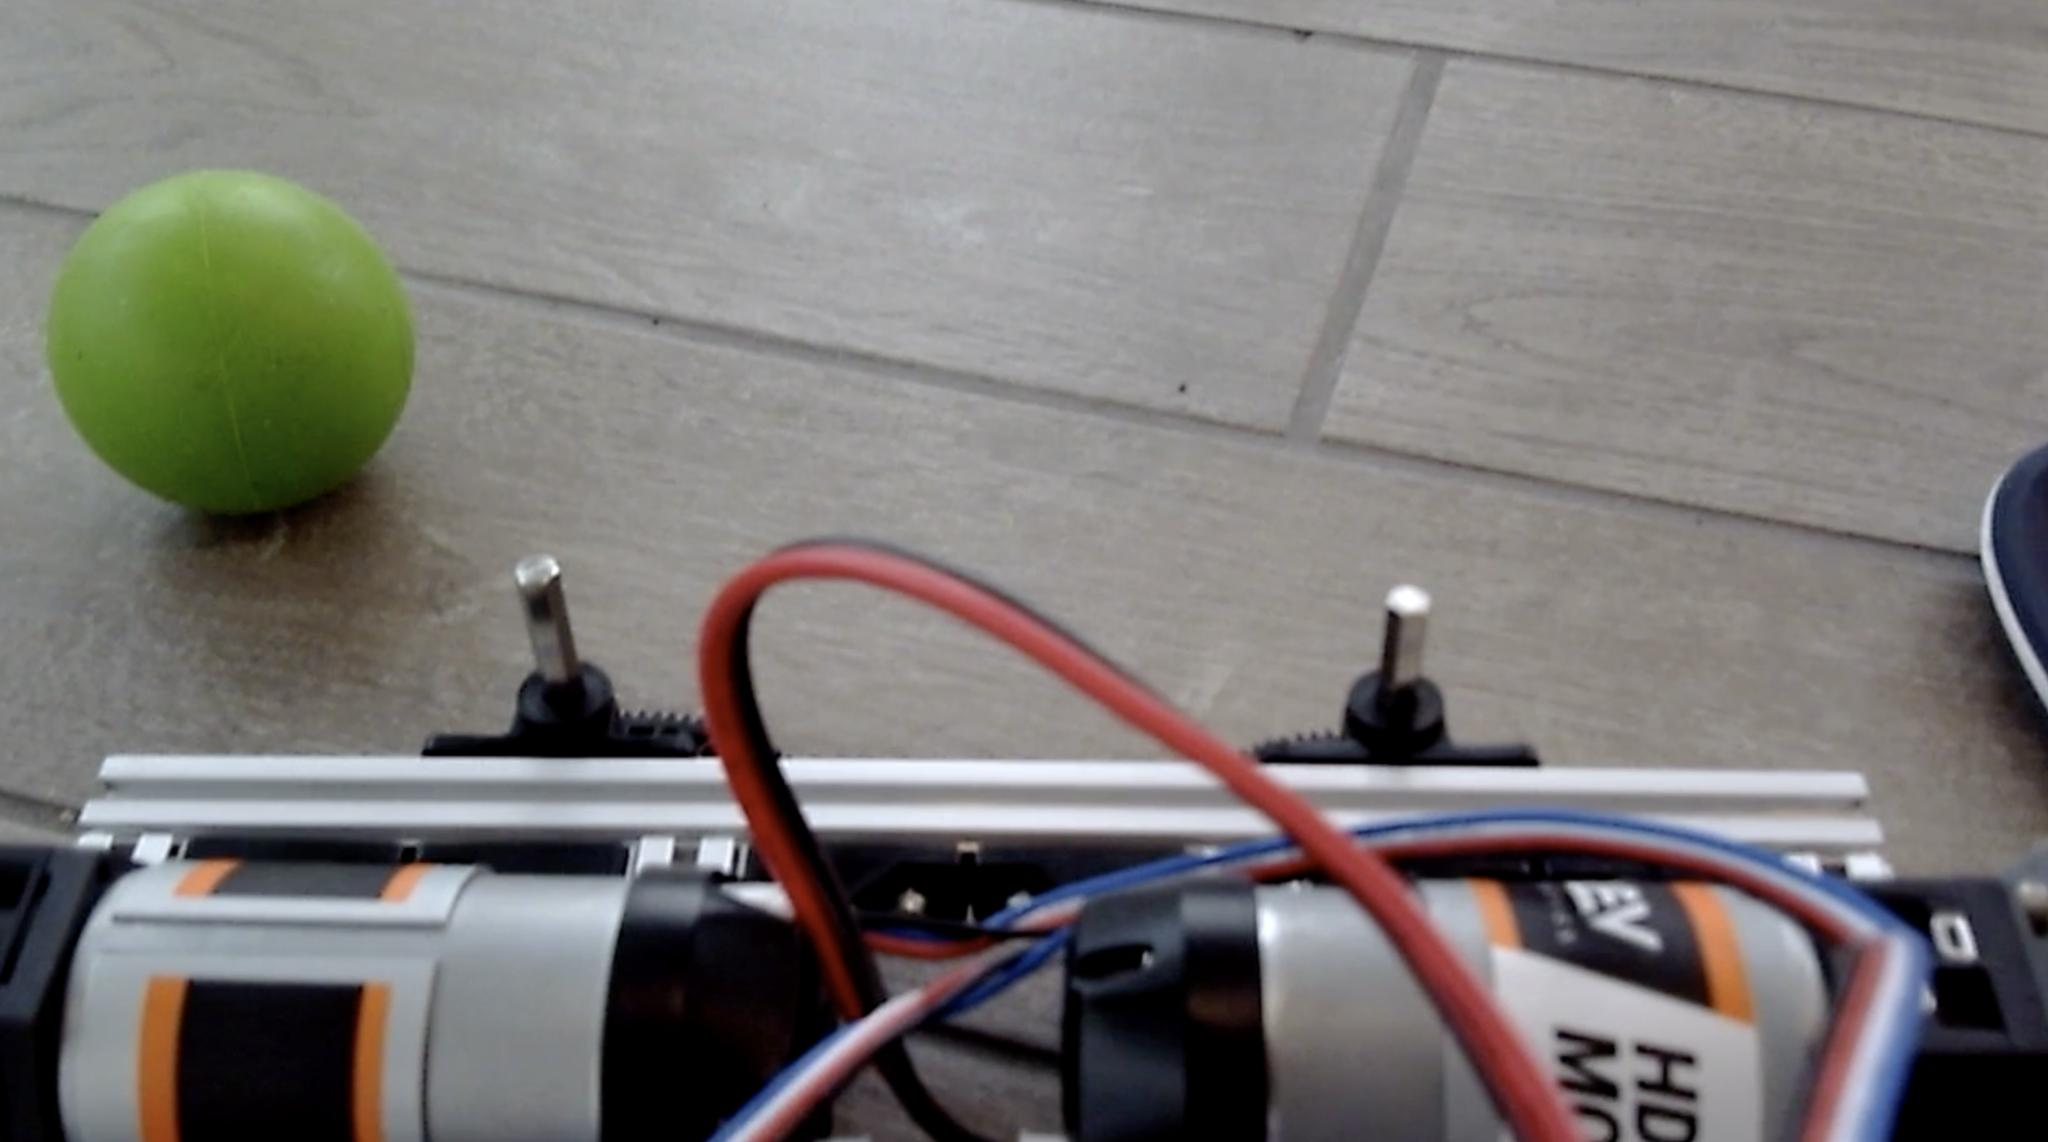Green Ball: (44, 162, 418, 520)
